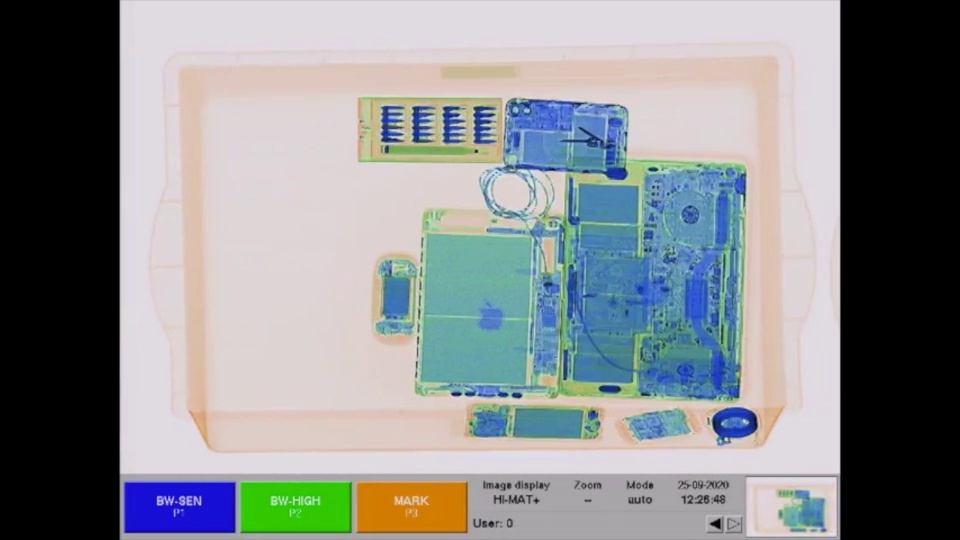tray_img: (142, 37, 825, 454)
